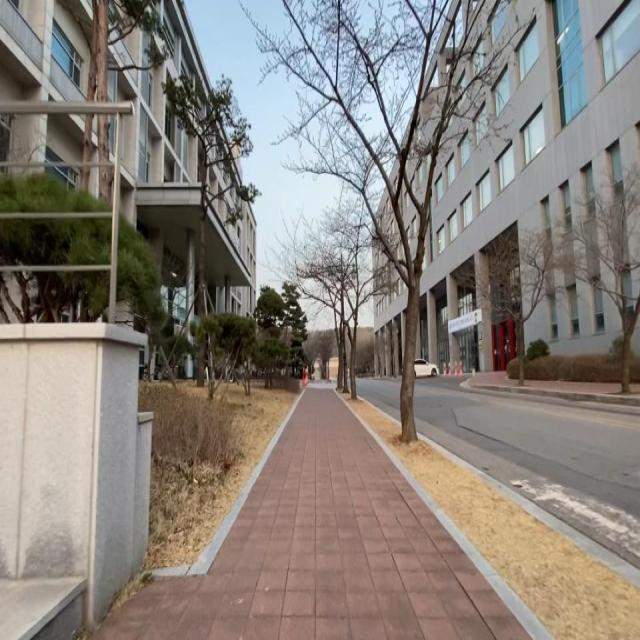sidewalk: (92, 388, 533, 640), (474, 372, 640, 398)
